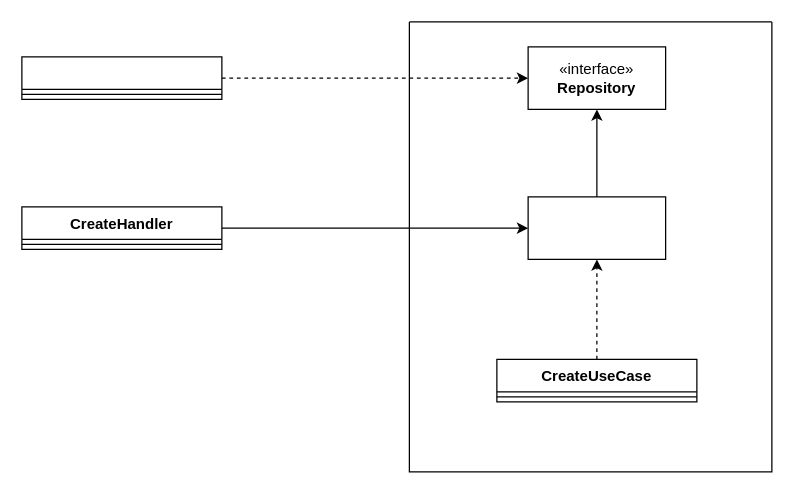
Some shapes in this 794 by 494 pixel diagram are drawn without their labels. Each missing label, with the centre of its shape:
EntityRepository: [121,77]
«interface» UseCase: [596,227]
